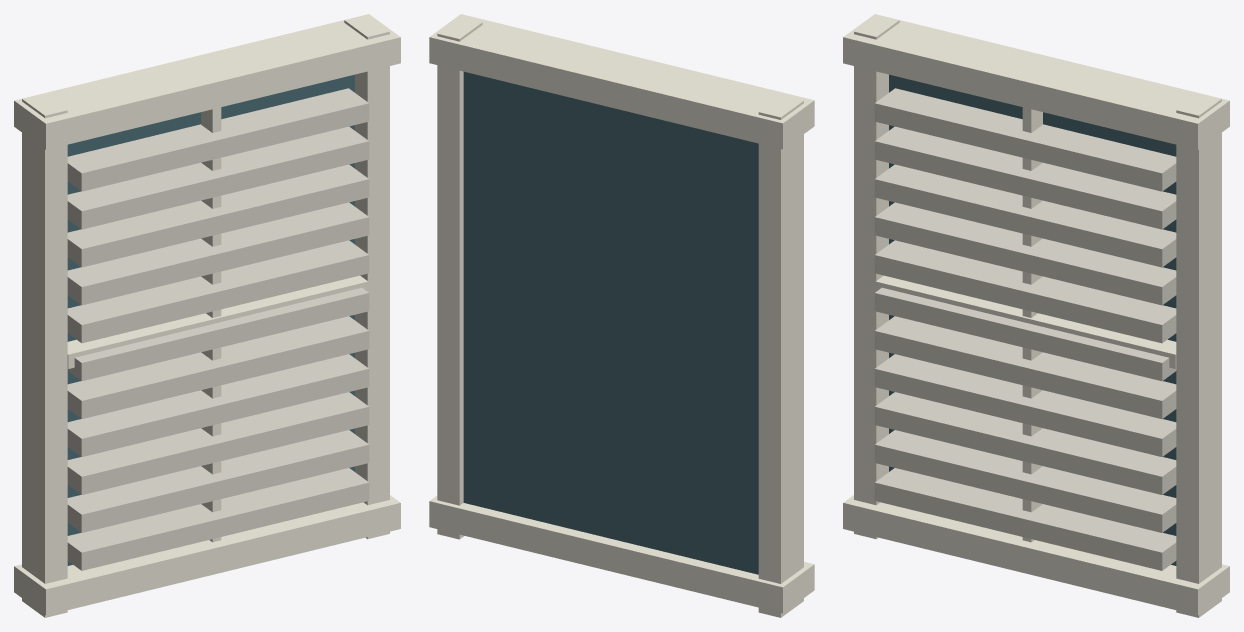
3 views of the same model, side by side, from view 1: azimuth 30°, elevation 25°; view 2: azimuth 150°, elevation 25°; view 3: azimuth 330°, elevation 25° (orthographic).
Parts seen in each view (by area): view 1: QH-A0072_V01_geometry; view 2: QH-A0072_V01_geometry; view 3: QH-A0072_V01_geometry.
Part boxes in pixels (left/top/right/bottom): QH-A0072_V01_geometry: left=14, top=14, right=400, bottom=617; QH-A0072_V01_geometry: left=429, top=14, right=814, bottom=617; QH-A0072_V01_geometry: left=843, top=14, right=1229, bottom=617.
Bounding box in the file's own units: 1.42 × 1.92 × 0.235.
